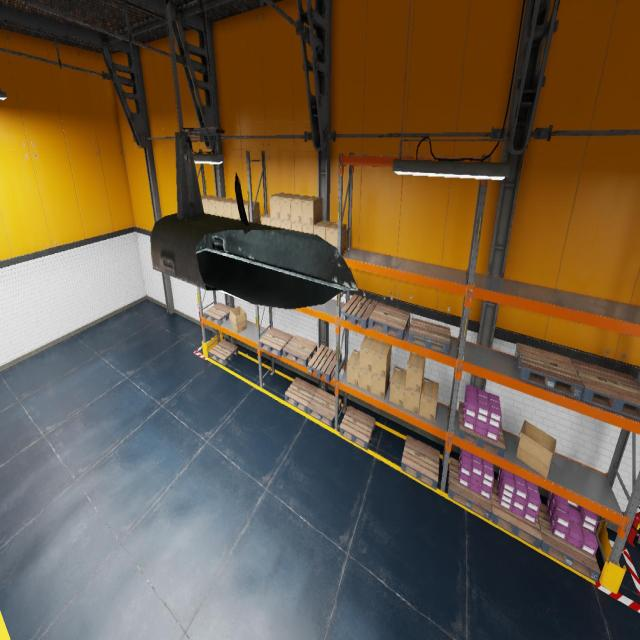box: (516, 420, 556, 478), (419, 378, 439, 422), (406, 352, 425, 393), (372, 340, 392, 378), (389, 366, 407, 408), (359, 336, 378, 372), (372, 364, 391, 399), (403, 382, 422, 414), (302, 196, 322, 225), (326, 222, 346, 250), (290, 195, 310, 223), (280, 194, 299, 221), (346, 350, 359, 387), (229, 306, 247, 332), (270, 193, 288, 219), (240, 201, 260, 223), (314, 220, 334, 240), (230, 200, 248, 220), (215, 198, 234, 216), (359, 367, 372, 393), (208, 197, 225, 215), (201, 196, 218, 213), (223, 199, 236, 218), (302, 224, 313, 234), (261, 213, 270, 225), (291, 222, 302, 231), (280, 220, 291, 229), (270, 218, 280, 227)
pallets: (538, 502, 600, 582), (571, 358, 640, 419), (514, 342, 584, 399), (491, 479, 542, 549), (448, 457, 492, 520), (458, 401, 505, 458), (401, 435, 440, 489), (340, 405, 376, 450), (408, 317, 451, 354), (368, 303, 410, 339), (340, 294, 378, 329), (308, 388, 342, 427), (308, 345, 342, 382), (285, 377, 317, 412), (283, 335, 317, 367), (259, 327, 292, 357), (209, 340, 238, 365), (204, 302, 233, 326)
